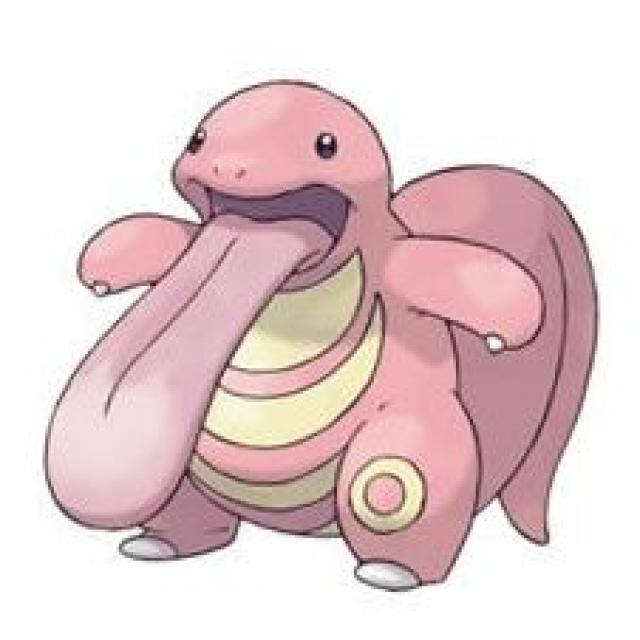Lickitung: (44, 77, 550, 550)
